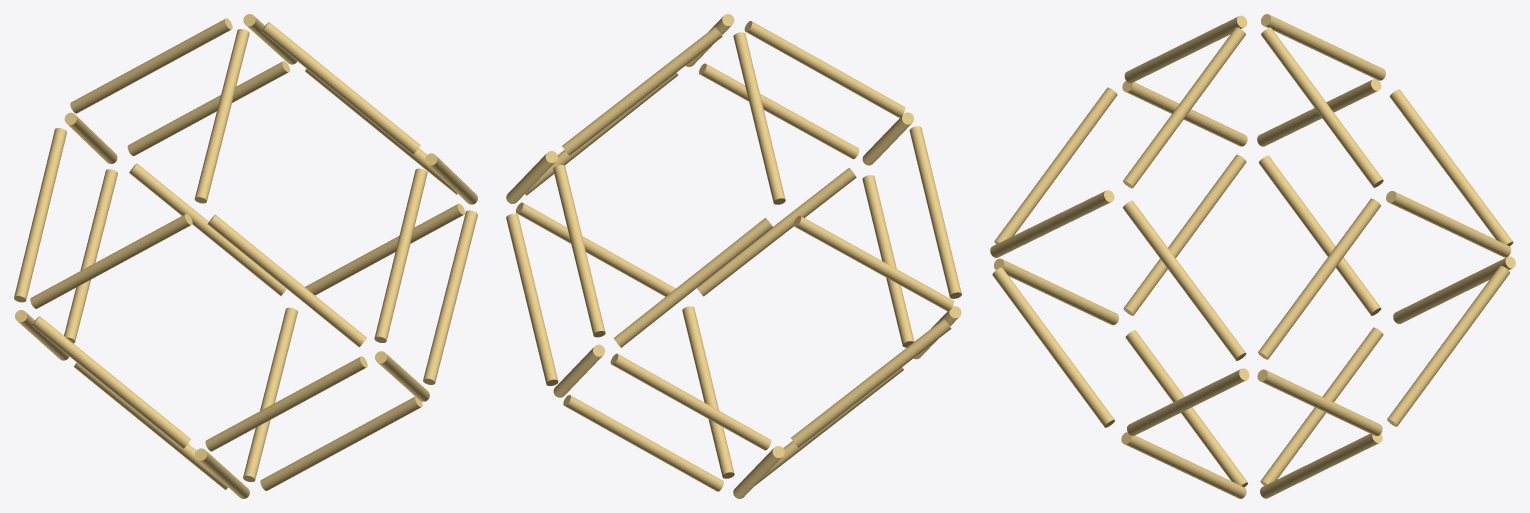
3 renders of one model, left to right at view 1: azimuth 30°, elevation 25°; view 2: azimuth 150°, elevation 25°; view 3: azimuth 270°, elevation 25°, orthographic.
Parts seen in each view (by area): view 1: Cylinder.017, Cylinder.016, Cylinder.019, Cylinder.012, Cylinder.013, Cylinder.014, Cylinder.015, Cylinder.004, Cylinder, Cylinder.008, Cylinder.010, Cylinder.023 (+12 smaller); view 2: Cylinder.003, Cylinder.009, Cylinder.007, Cylinder.005, Cylinder.006, Cylinder.008, Cylinder, Cylinder.001, Cylinder.014, Cylinder.013, Cylinder.020, Cylinder.021 (+10 smaller); view 3: Cylinder.023, Cylinder.022, Cylinder.019, Cylinder.005, Cylinder.003, Cylinder.011, Cylinder.009, Cylinder.016, Cylinder.017, Cylinder.007, Cylinder.018, Cylinder.002 (+12 smaller).
Part boxes in pixels (x1,y1,x2,y2): Cylinder.017: (31,316,190,448); Cylinder.016: (207,214,366,347); Cylinder.019: (261,22,420,154); Cylinder.012: (205,356,367,451); Cylinder.013: (30,213,192,308); Cylinder.014: (70,18,232,113); Cylinder.015: (260,396,422,490); Cylinder.004: (423,210,477,384); Cylinder: (194,29,249,203); Cylinder.008: (14,128,66,302); Cylinder.010: (374,168,427,342); Cylinder.023: (129,163,286,295); Cylinder.003: (562,27,722,155); Cylinder.009: (613,218,772,347); Cylinder.007: (791,319,951,447); Cylinder.005: (697,168,856,296); Cylinder.006: (610,353,771,450); Cylinder.008: (793,215,953,311); Cylinder: (744,21,905,117); Cylinder.001: (563,395,723,491); Cylinder.014: (733,32,785,204); Cylinder.013: (909,126,961,298); Cylinder.020: (506,213,558,385); Cylinder.021: (553,165,605,337); Cylinder.023: (1387,265,1509,426); Cylinder.022: (1258,198,1380,359); Cylinder.019: (1123,27,1245,188); Cylinder.005: (992,267,1114,427); Cylinder.003: (1261,27,1383,187); Cylinder.011: (1123,200,1246,360); Cylinder.009: (1389,89,1513,246); Cylinder.016: (994,87,1117,244); Cylinder.017: (1123,154,1246,315); Cylinder.007: (1258,155,1381,315); Cylinder.018: (1260,327,1383,485); Cylinder.002: (1125,330,1247,487).
Bounding box in the file's own units: 17.53 × 17.48 × 17.55.
